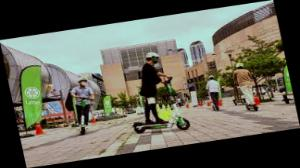helmet: (116, 48, 194, 139), (63, 75, 104, 136), (228, 60, 263, 114), (202, 73, 225, 113)
